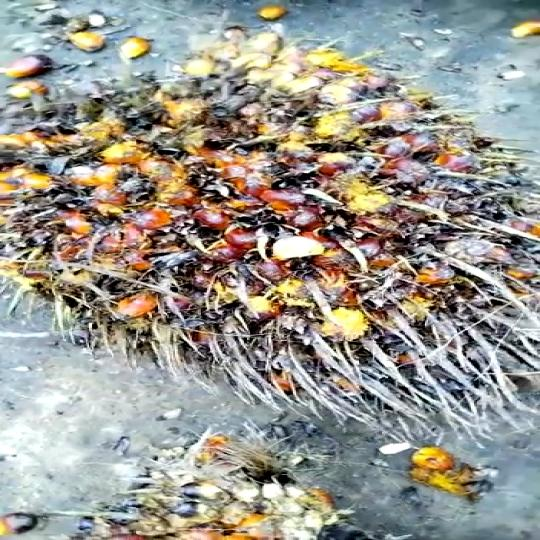terlalu masak: (0, 46, 540, 420)
